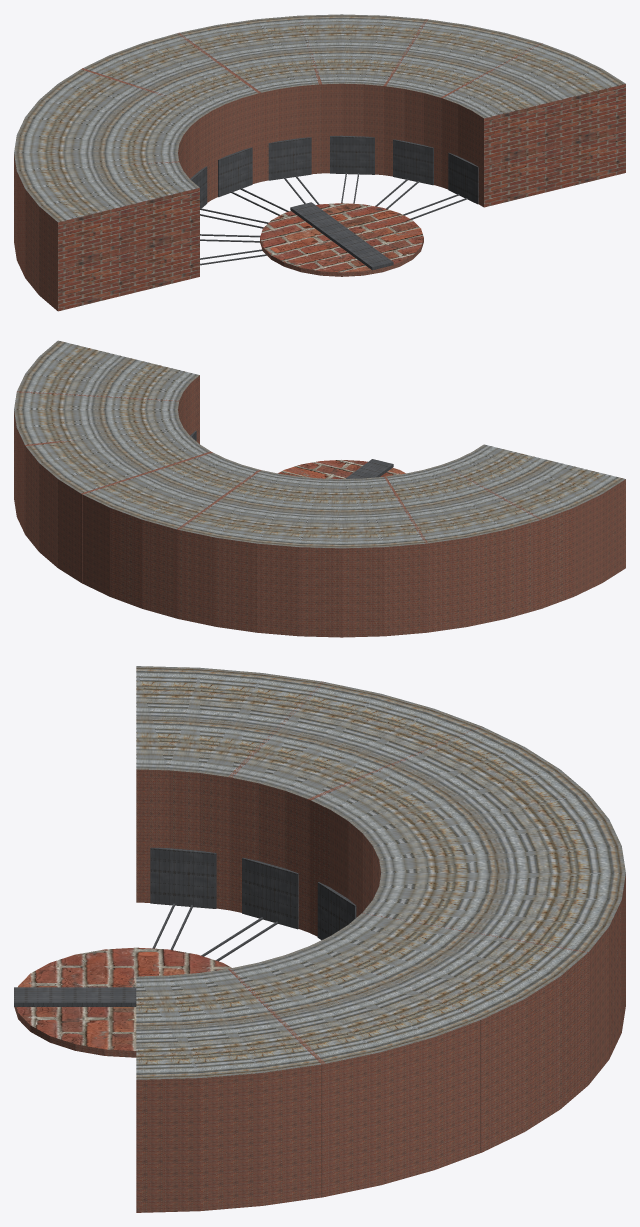
File: railyard-roundhouse_lod0.gltf
The picture shows the model from 3 angles, top to bottom: view 1: azimuth 30°, elevation 25°; view 2: azimuth 150°, elevation 25°; view 3: azimuth 270°, elevation 25°; orthographic projection. The views are drawn at different scales.
Visible parts, largest first — view 1: railyard-roundhouse_roof, railyard-roundhouse_ends, railyard-roundhouse_inner, railyard-roundhouse_stall_doors, railyard-roundhouse__turntable, railyard-roundhouse_outer, railyard-roundhouse__turntable_bridge, railyard-roundhouse_rails, railyard-roundhouse_bays; view 2: railyard-roundhouse_outer, railyard-roundhouse_roof, railyard-roundhouse_bays, railyard-roundhouse__turntable, railyard-roundhouse_inner, railyard-roundhouse__turntable_bridge; view 3: railyard-roundhouse_roof, railyard-roundhouse_outer, railyard-roundhouse_inner, railyard-roundhouse__turntable, railyard-roundhouse_stall_doors, railyard-roundhouse_bays, railyard-roundhouse__turntable_bridge, railyard-roundhouse_rails.
Boxes of the visible parts, x1,y1,x2,y2 form: railyard-roundhouse_roof: (14, 14, 625, 222); railyard-roundhouse_ends: (58, 84, 625, 311); railyard-roundhouse_inner: (178, 83, 483, 207); railyard-roundhouse_stall_doors: (190, 135, 478, 208); railyard-roundhouse__turntable: (260, 203, 423, 276); railyard-roundhouse_outer: (14, 154, 57, 310); railyard-roundhouse__turntable_bridge: (290, 202, 393, 270); railyard-roundhouse_rails: (200, 172, 467, 265); railyard-roundhouse_bays: (16, 19, 542, 259); railyard-roundhouse_outer: (14, 411, 625, 637); railyard-roundhouse_roof: (14, 340, 625, 548); railyard-roundhouse_bays: (17, 391, 542, 636); railyard-roundhouse__turntable: (278, 460, 405, 478); railyard-roundhouse_inner: (178, 375, 199, 443); railyard-roundhouse__turntable_bridge: (345, 459, 393, 478); railyard-roundhouse_roof: (136, 666, 625, 1079); railyard-roundhouse_outer: (136, 874, 625, 1212); railyard-roundhouse_inner: (136, 769, 380, 936); railyard-roundhouse__turntable: (14, 947, 231, 1057); railyard-roundhouse_stall_doors: (150, 847, 356, 939); railyard-roundhouse_bays: (228, 681, 589, 1197); railyard-roundhouse__turntable_bridge: (14, 987, 136, 1006); railyard-roundhouse_rails: (152, 903, 278, 961).
Bounding box in the file's own units: 80 × 12 × 50.
